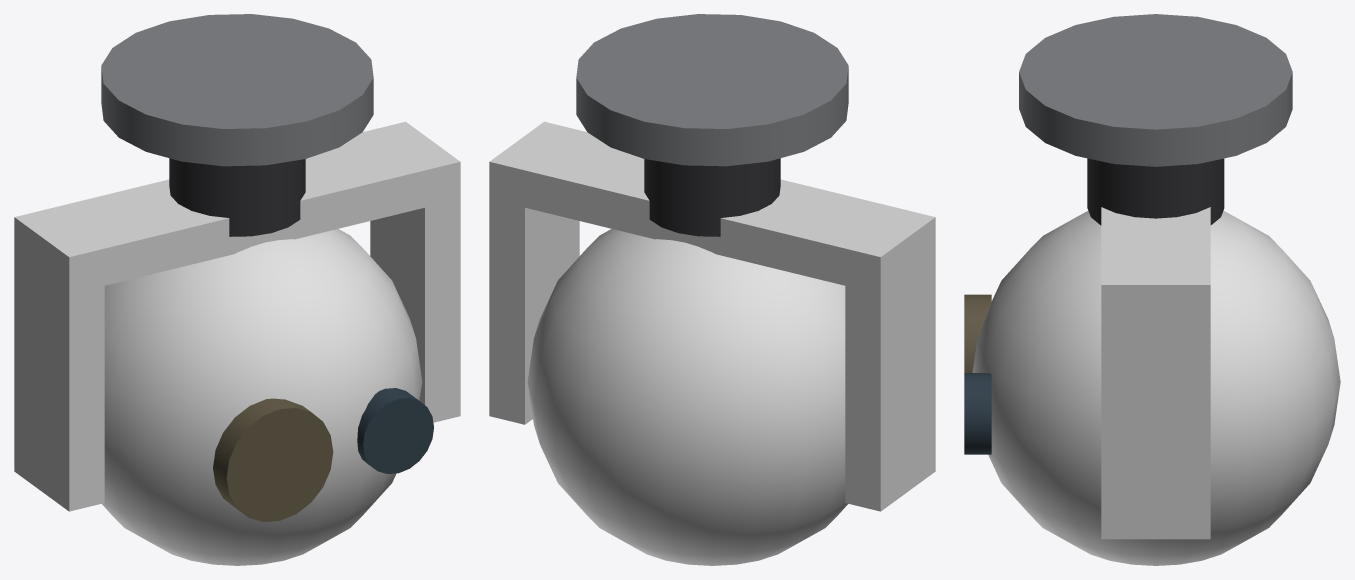
File: heat-camera.glb
3 views of the same model, side by side, from view 1: azimuth 30°, elevation 25°; view 2: azimuth 150°, elevation 25°; view 3: azimuth 270°, elevation 25° (orthographic).
Parts seen in each view (by area): view 1: heat-camera; view 2: heat-camera; view 3: heat-camera.
Boxes of the visible parts, x1,y1,x2,y2 form: heat-camera: (14,14,460,565); heat-camera: (489,14,935,565); heat-camera: (964,14,1340,565).
Bounding box in the file's own units: 0.33 × 0.385 × 0.275.
